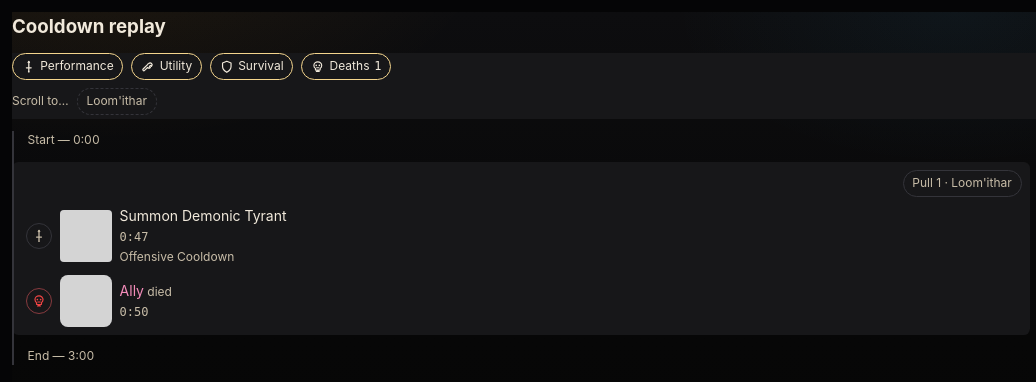
CooldownReplayTimeline › shows boss jump chips and masks deaths when the death filter is off
Expected: the 1st icon with test id "death-glyph-icon" is shown, [311,60,325,73]
Expected: the button with test id "cooldown-boss-chip-1" reads "Loom'ithar", [77,88,157,115]
Click the button with test id "cooldown-filter-D" at (346, 66), box [301,53,391,80]
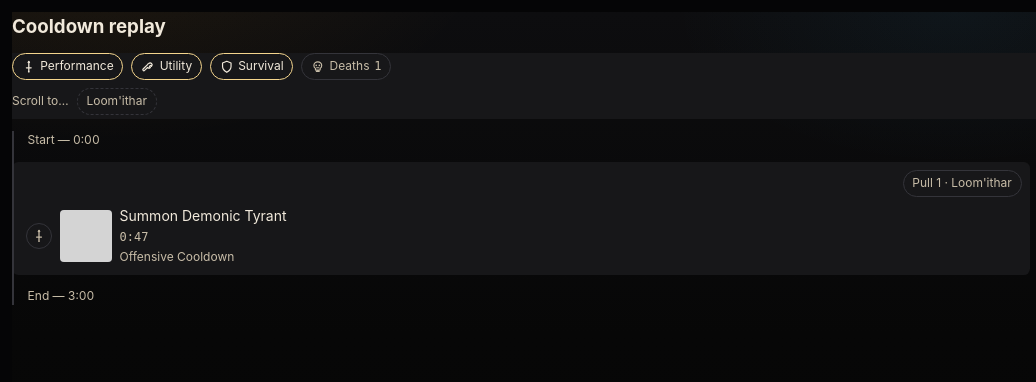
Expected: the text "Summon Demonic Tyrant" is shown, [120,206,286,224]
Now the text "Ally" is gone
